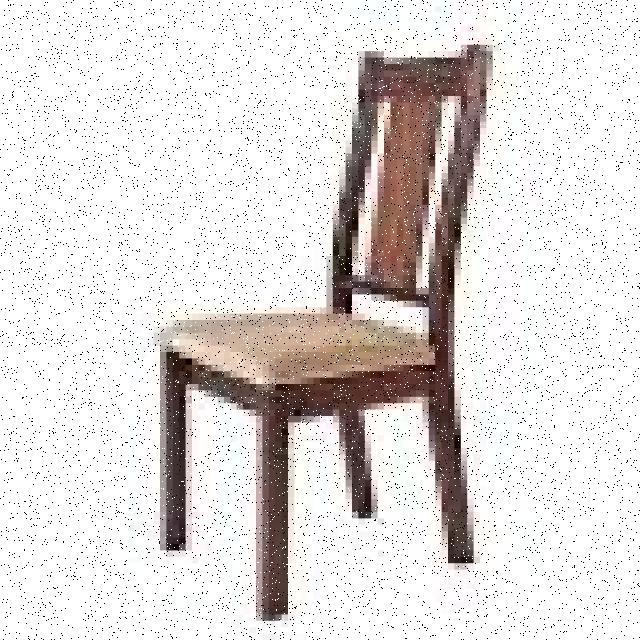bottle: (158, 41, 496, 621)
